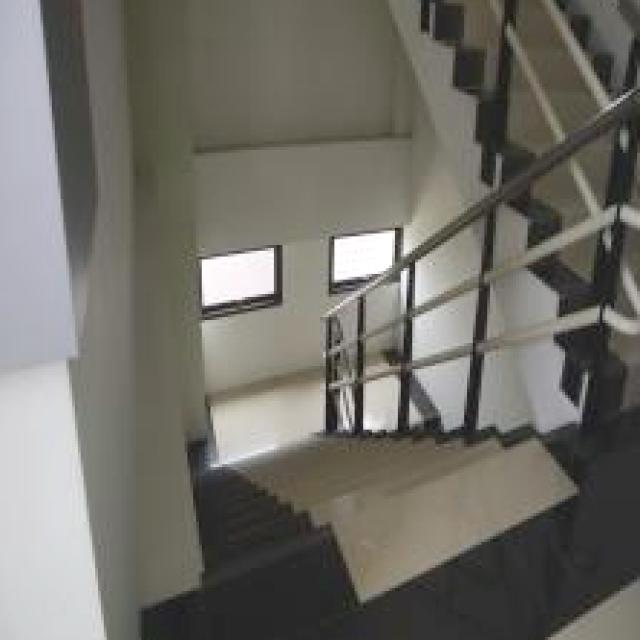downstair: (229, 462, 465, 618)
